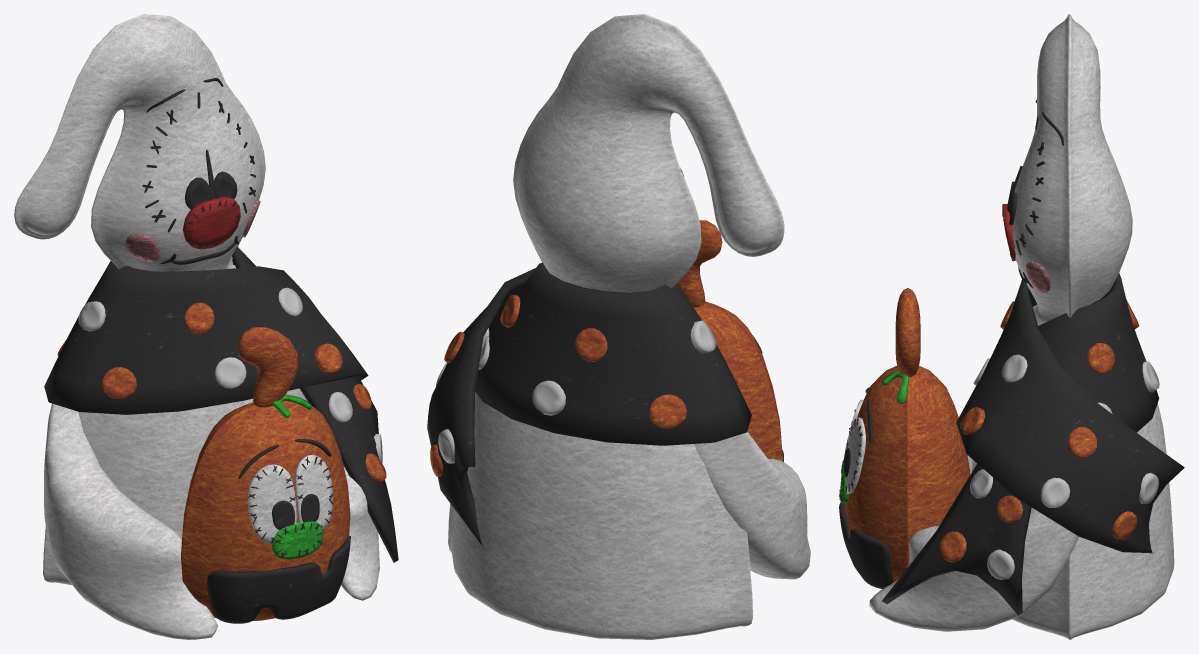
Rendered from Doll_V3.glb.
The picture shows the model from 3 angles, left to right: view 1: azimuth 30°, elevation 25°; view 2: azimuth 150°, elevation 25°; view 3: azimuth 270°, elevation 25°; orthographic projection. The views are drawn at different scales.
Parts seen in each view (by area): view 1: Circle.001, Circle.011, Cube.001, Circle.003, Circle.007, Plane.001, Circle.005, Plane.006, Plane.019, Plane.005, Plane.003, Plane.011 (+2 smaller); view 2: Circle.001, Circle.011, Cube.001, Circle.003, Plane.006, Plane.019, Circle.005; view 3: Circle.011, Circle.001, Circle.003, Cube.001, Plane.006, Plane.019, Circle.007, Circle.005, Plane.001, Plane.017.
Boxes of the visible parts, x1,y1,x2,y2 form: Circle.001: [14, 14, 307, 585]; Circle.011: [44, 246, 398, 562]; Cube.001: [44, 403, 379, 639]; Circle.003: [181, 400, 350, 620]; Circle.007: [207, 536, 350, 623]; Plane.001: [248, 455, 332, 544]; Circle.005: [237, 327, 298, 407]; Plane.006: [57, 302, 386, 481]; Plane.019: [78, 287, 382, 462]; Plane.005: [182, 196, 240, 249]; Plane.003: [271, 521, 323, 559]; Plane.011: [185, 171, 237, 209]; Circle.001: [448, 14, 784, 639]; Circle.011: [427, 262, 751, 545]; Cube.001: [481, 328, 810, 579]; Circle.003: [693, 301, 783, 461]; Plane.006: [430, 295, 738, 476]; Plane.019: [436, 320, 716, 463]; Circle.005: [677, 220, 722, 307]; Circle.011: [882, 273, 1184, 615]; Circle.001: [971, 14, 1174, 639]; Circle.003: [844, 365, 970, 581]; Cube.001: [869, 455, 1078, 631]; Plane.006: [939, 299, 1139, 562]; Plane.019: [970, 354, 1159, 579]; Circle.007: [839, 502, 893, 588]; Circle.005: [895, 288, 920, 377]; Plane.001: [845, 399, 865, 493]; Plane.017: [1026, 261, 1050, 292].
Bounding box in the file's own units: 2.01 × 3.09 × 1.81.
Materials: 11 (11 with a texture image).
